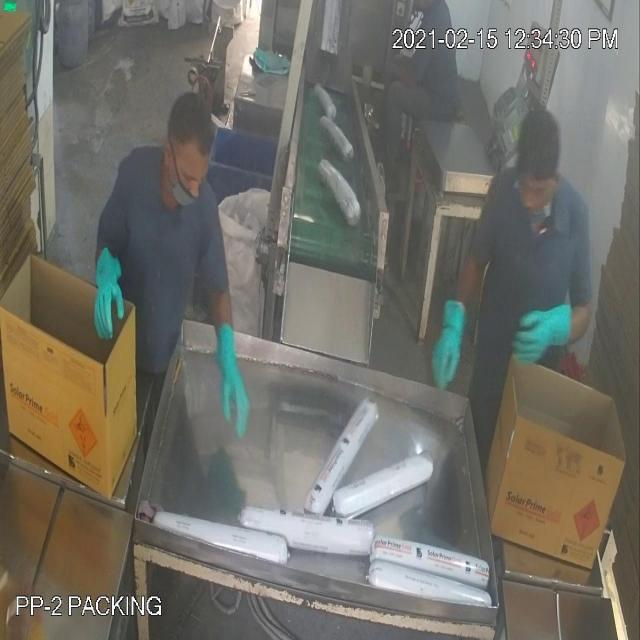Gloves: (38, 84, 549, 374)
